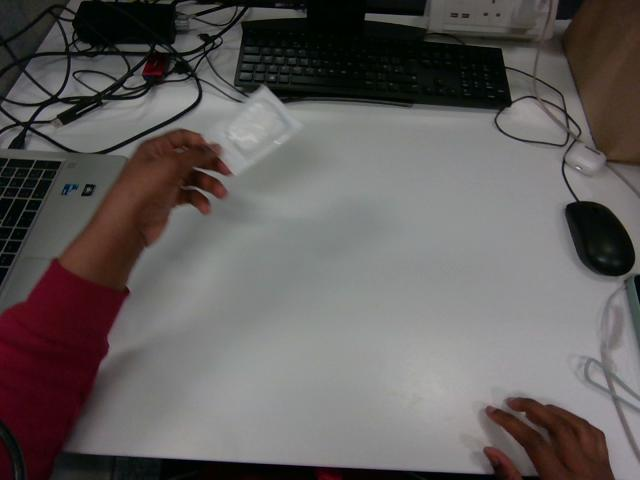gauze: (207, 86, 301, 174)
